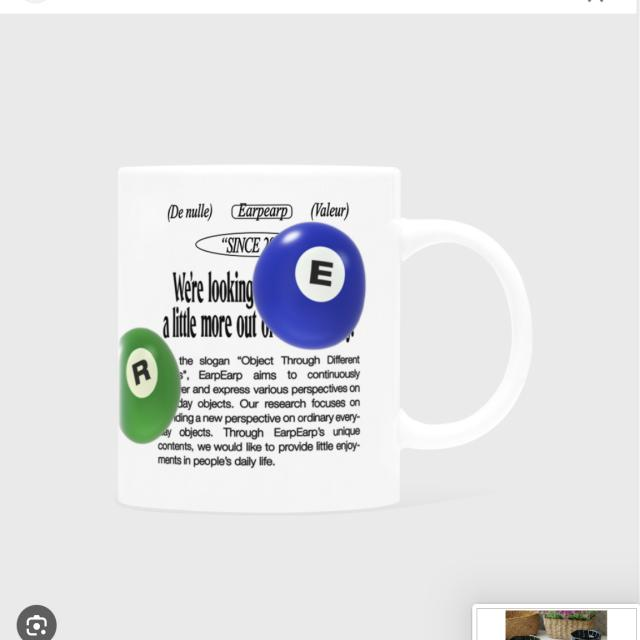recyclable: (100, 153, 541, 520)
